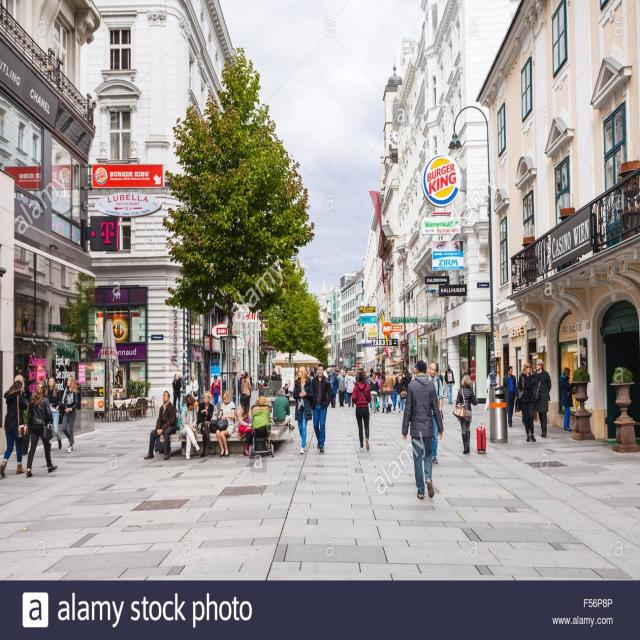body: (400, 358, 445, 500), (25, 378, 58, 480), (0, 378, 30, 479), (142, 389, 178, 461), (452, 374, 480, 455), (308, 362, 332, 454), (292, 364, 314, 454), (55, 374, 79, 455), (514, 360, 537, 442), (426, 362, 444, 464), (176, 393, 201, 462), (350, 371, 371, 452), (533, 357, 553, 440), (215, 388, 235, 458), (44, 375, 62, 452), (272, 387, 296, 442), (196, 390, 215, 459), (558, 366, 577, 434), (235, 393, 253, 456), (502, 363, 519, 428), (384, 369, 396, 413), (443, 363, 455, 406), (240, 370, 252, 413), (395, 369, 406, 414), (20, 300, 33, 336), (379, 372, 390, 414), (368, 372, 378, 414), (231, 372, 242, 409), (346, 369, 356, 408), (210, 374, 221, 406), (330, 370, 339, 409), (175, 372, 183, 413), (436, 368, 444, 407), (171, 374, 179, 413), (13, 368, 25, 393), (188, 373, 199, 400), (338, 368, 345, 408), (402, 368, 412, 393), (375, 372, 381, 412), (363, 367, 373, 388), (334, 368, 340, 402), (306, 365, 318, 381), (343, 369, 348, 404), (282, 383, 291, 401), (378, 371, 382, 408), (113, 370, 121, 388), (247, 372, 253, 388), (221, 373, 227, 389), (353, 368, 359, 381), (239, 373, 245, 385), (459, 367, 468, 375), (390, 369, 397, 378), (369, 396, 372, 410), (395, 370, 399, 378), (382, 370, 386, 374)
